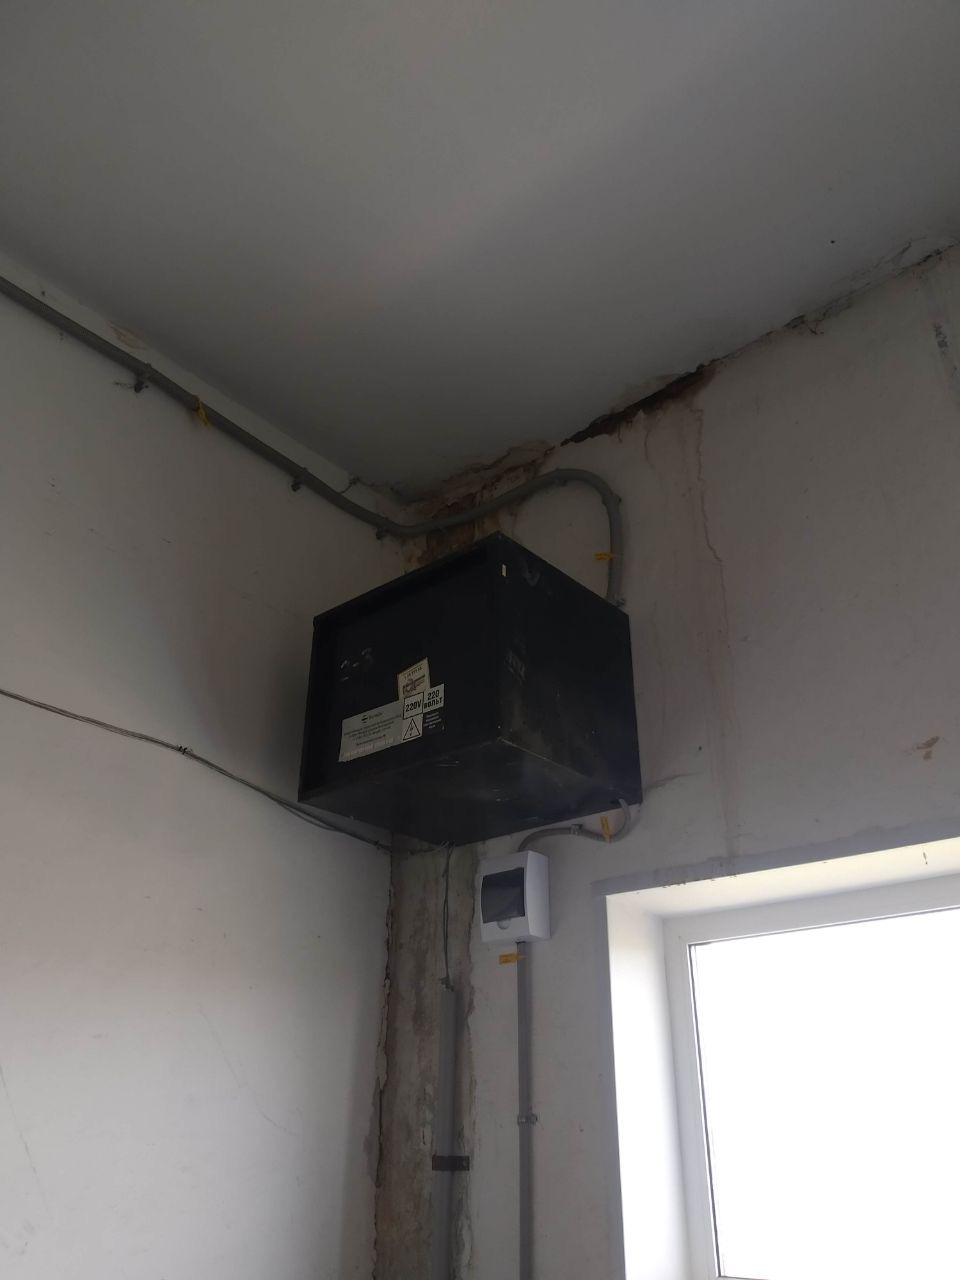shta-9m: (286, 521, 653, 862)
